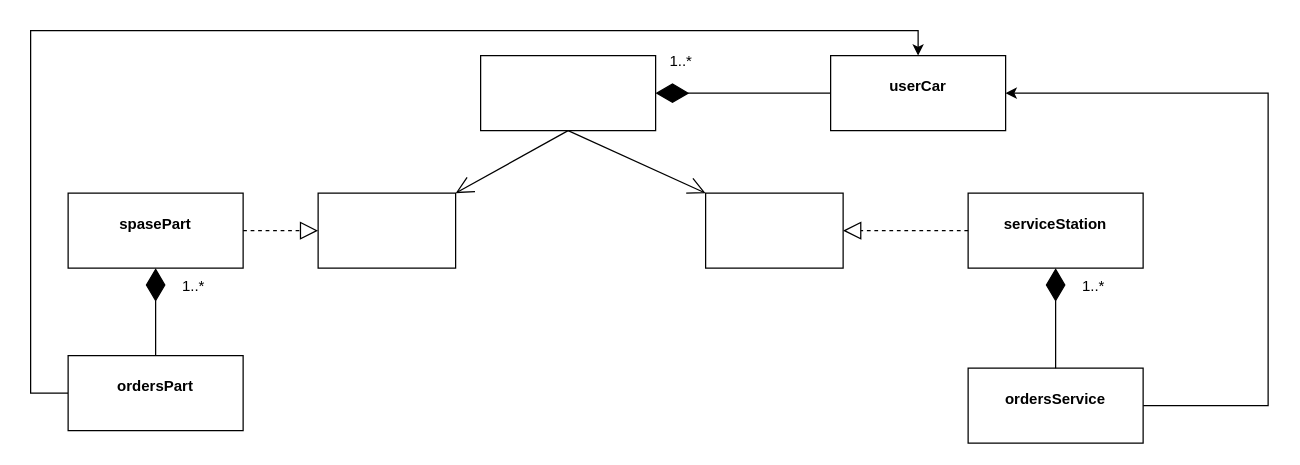
The diagram is 1300 pixels wide and 465 high, and some of its shapes have lost their labels. Each missing label, with the centre of its shape:
"User" goes at [567,92].
"«interface» serviceStation" goes at [773,230].
"«interface» spacePart" goes at [386,230].
